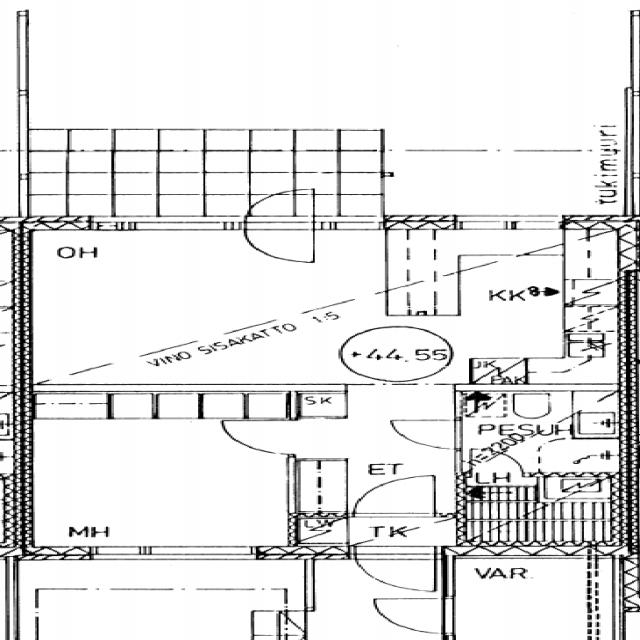door: (355, 546, 435, 597), (353, 475, 434, 516), (244, 216, 314, 263), (244, 183, 314, 230), (370, 598, 454, 632), (216, 419, 297, 454), (395, 421, 464, 449), (471, 448, 523, 477)
